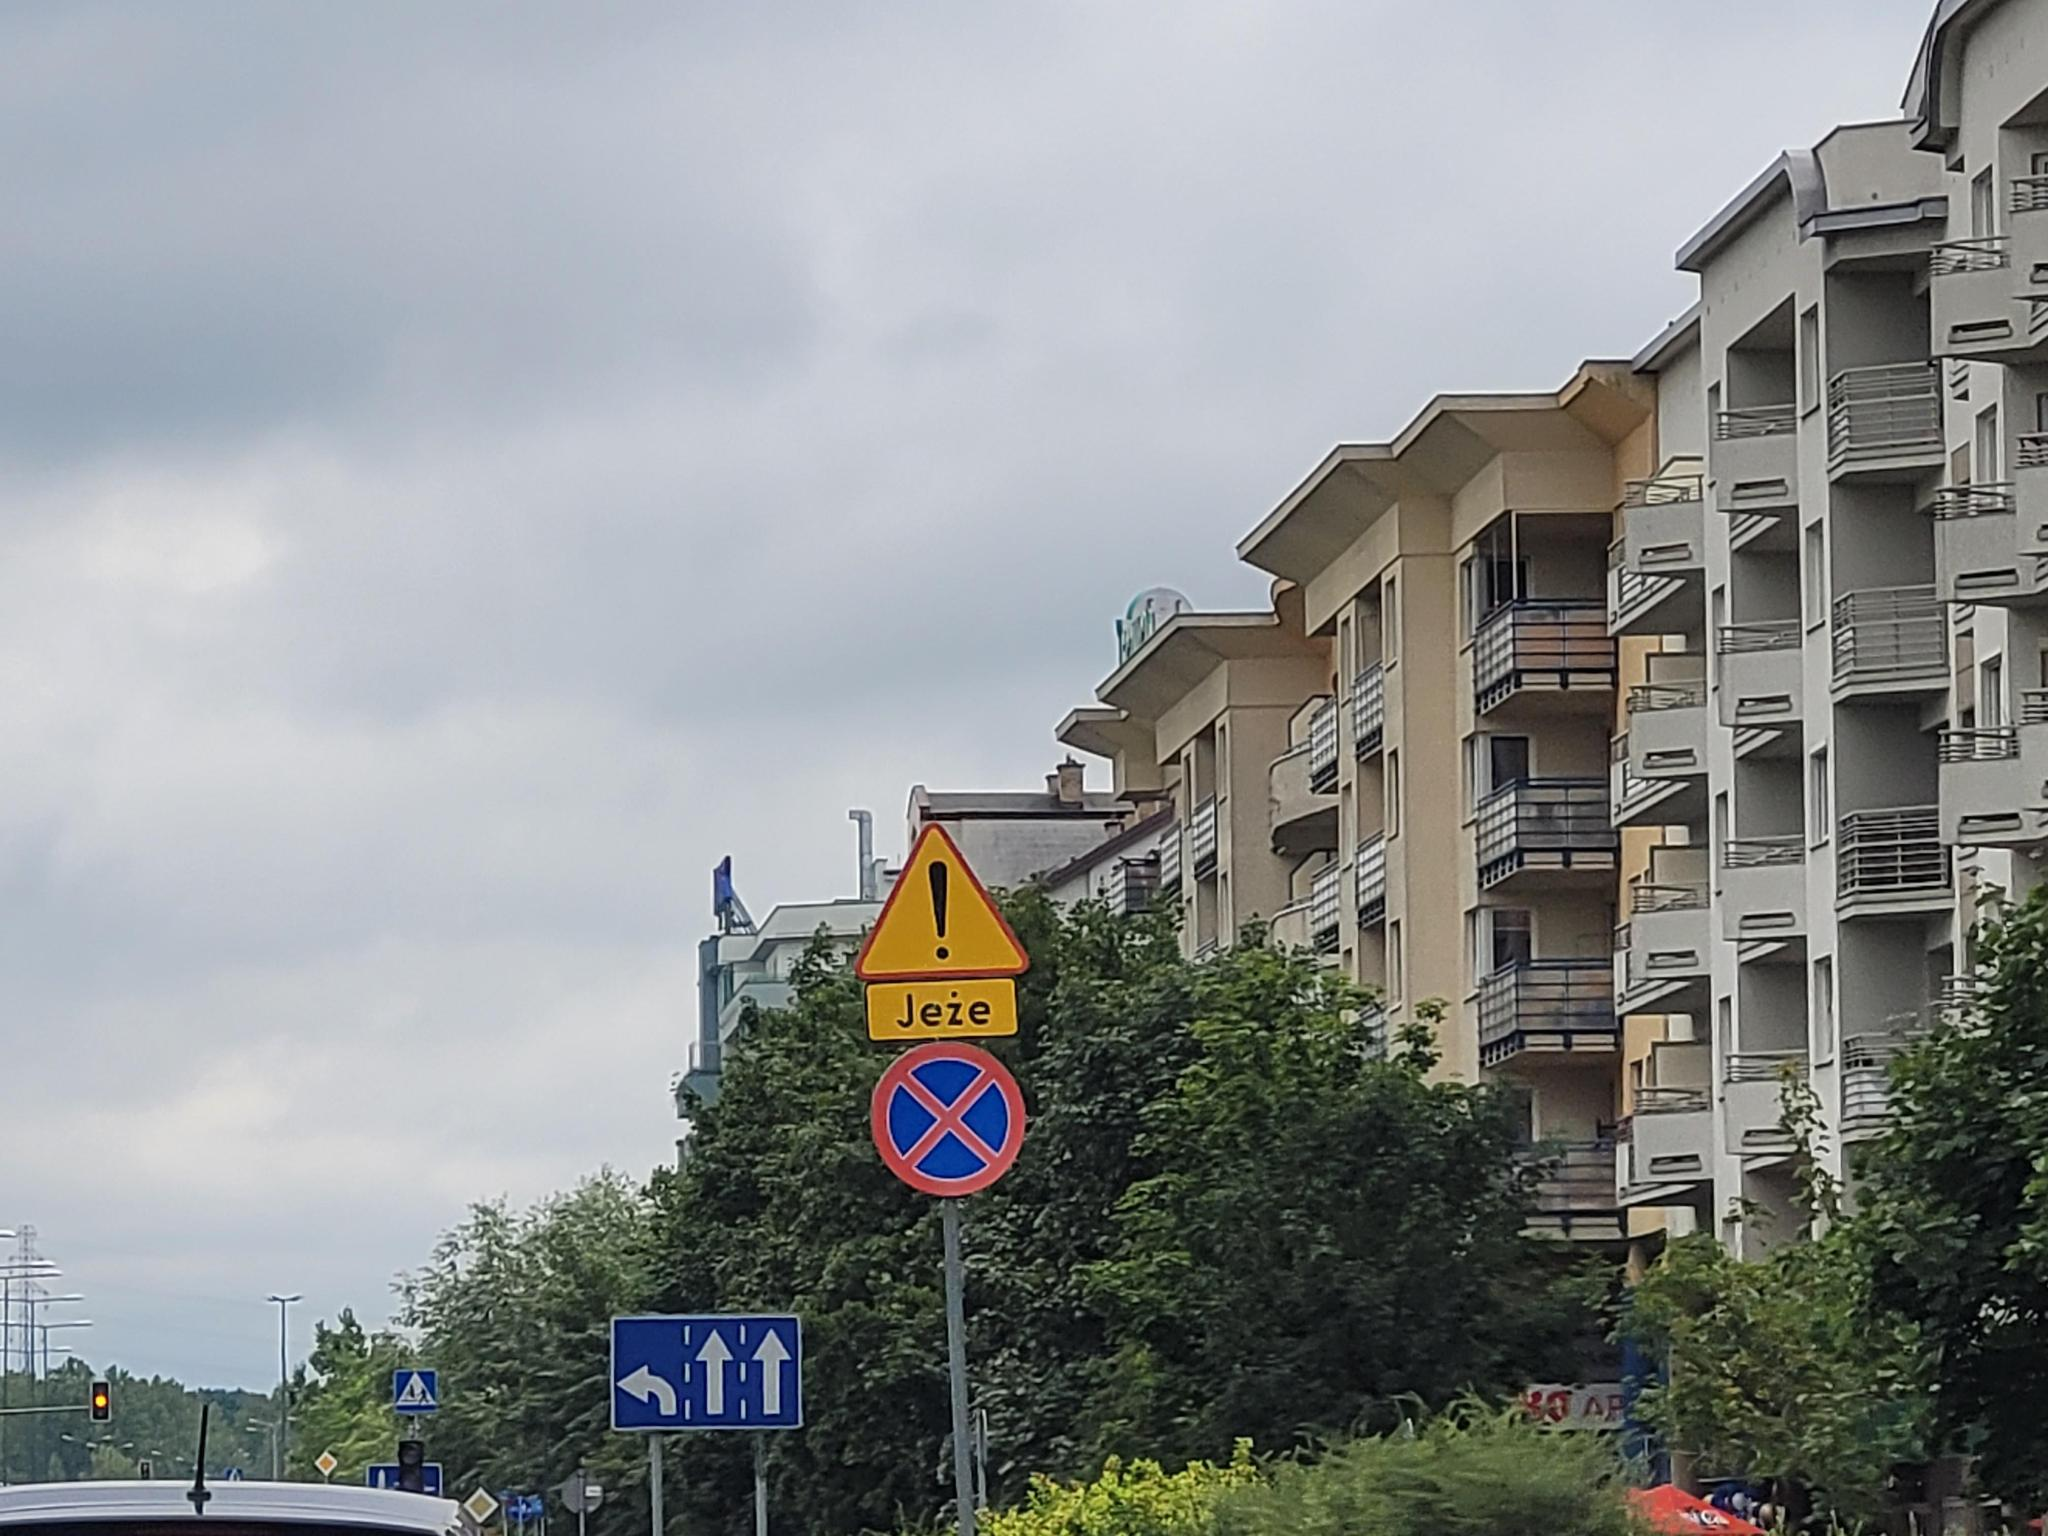information: (393, 1370, 439, 1412), (462, 1486, 500, 1524), (314, 1450, 340, 1478), (226, 1468, 244, 1478)
mandatory: (510, 1496, 532, 1522)
other: (612, 1316, 804, 1432), (864, 978, 1018, 1040), (368, 1464, 442, 1494)
prohibitory: (868, 1040, 1028, 1200)
warning: (854, 821, 1030, 979)
